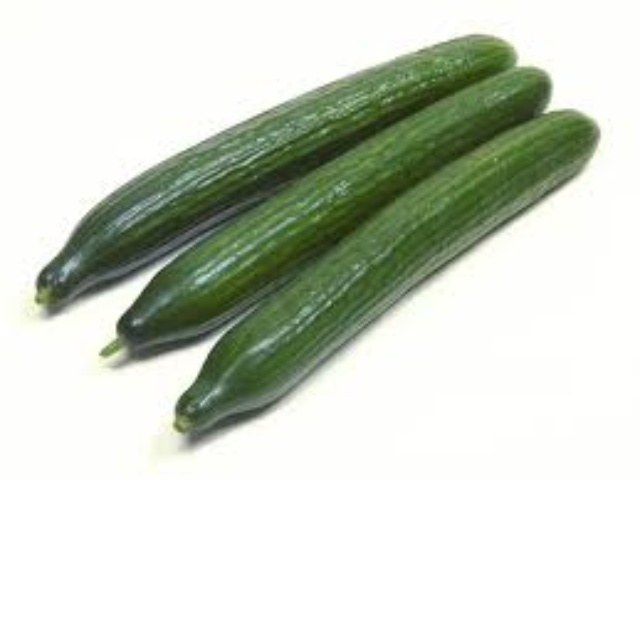dua_leo: (172, 107, 603, 438), (36, 28, 519, 315), (113, 64, 555, 354)
